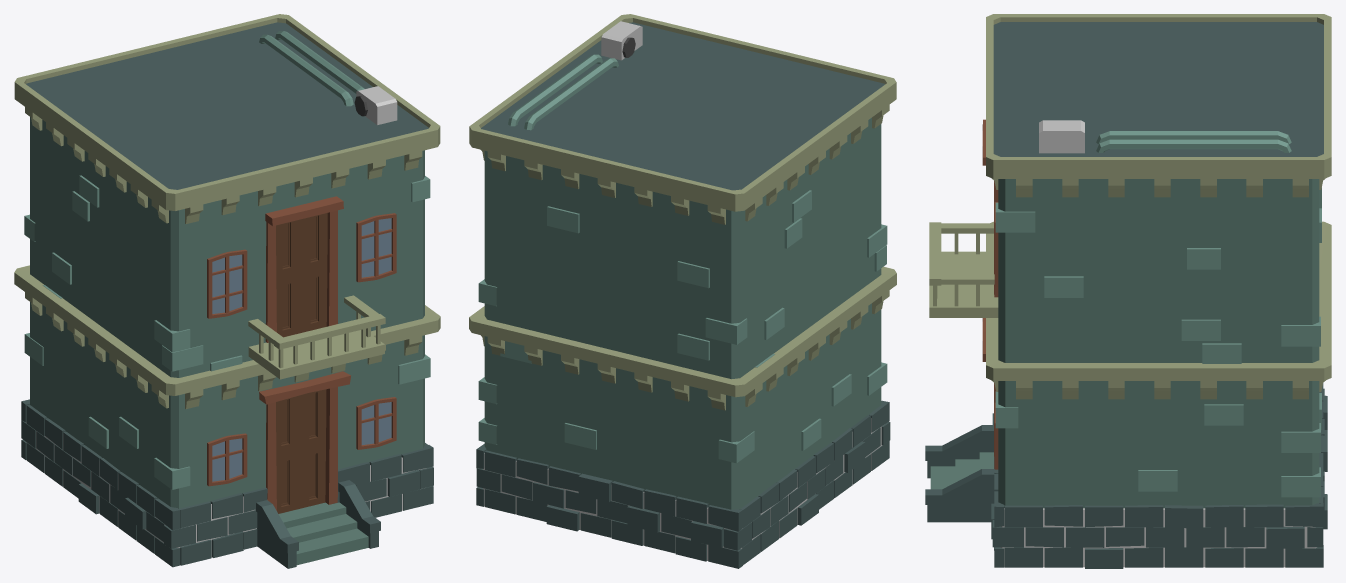
File: 2story_balcony_mat.glb
The picture shows the model from 3 angles, left to right: view 1: azimuth 30°, elevation 25°; view 2: azimuth 150°, elevation 25°; view 3: azimuth 270°, elevation 25°; orthographic projection. The views are drawn at different scales.
Parts seen in each view (by area): view 1: 2Story_Balcony_Mat; view 2: 2Story_Balcony_Mat; view 3: 2Story_Balcony_Mat.
Boxes of the visible parts, <box> form: 2Story_Balcony_Mat: <box>14,14,440,568</box>; 2Story_Balcony_Mat: <box>469,14,896,568</box>; 2Story_Balcony_Mat: <box>925,14,1331,568</box>.
Bounding box in the file's own units: 2.16 × 2.94 × 2.53.
